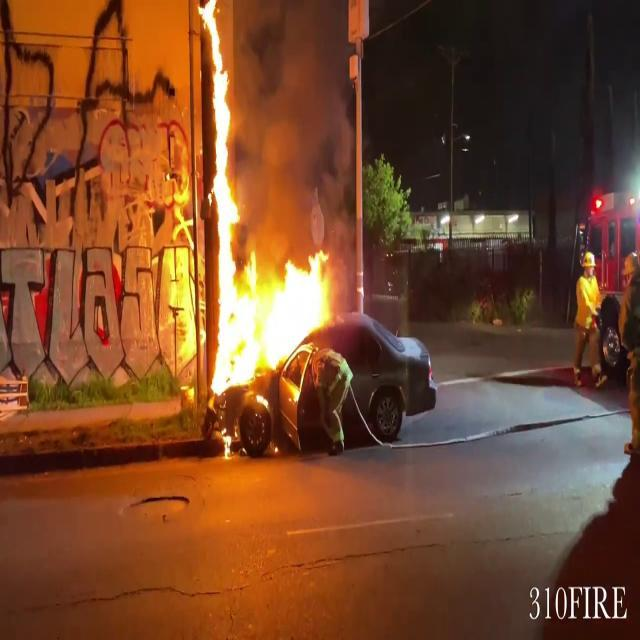Fire: (209, 239, 338, 394), (206, 0, 236, 223)
Smoke: (240, 0, 353, 245)
